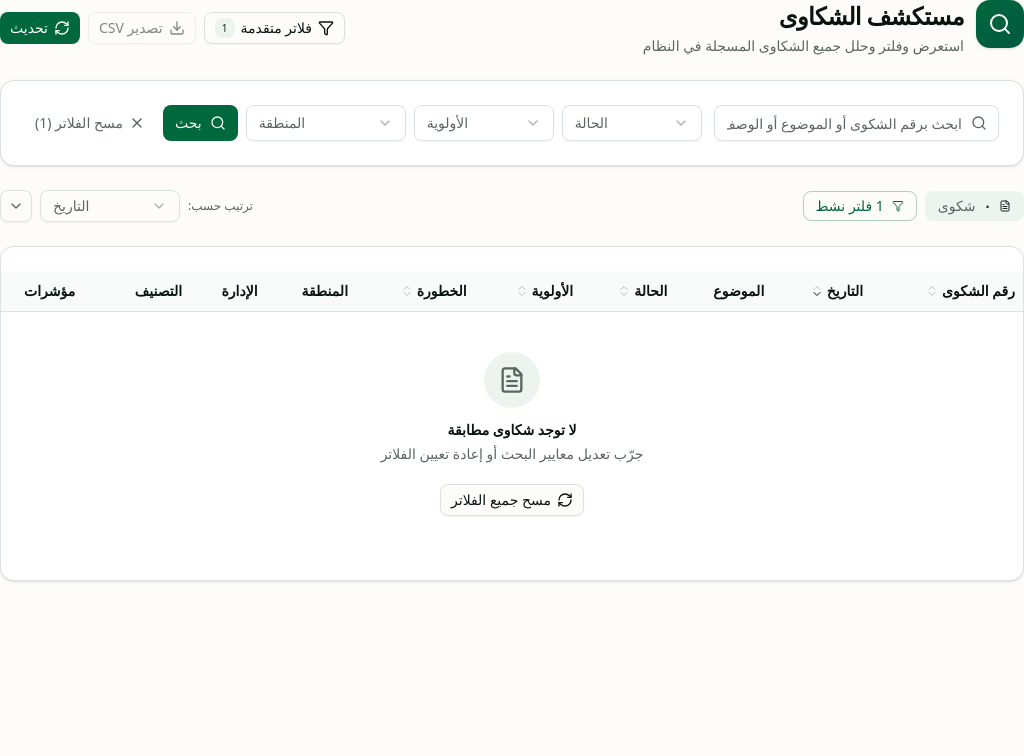
it: complaints explorer dataFreshnessBucket UI › shows facility from URL in advanced filters (drilldown-safe on reload)
Click the button "فلاتر متقدمة 1" at (274,28), box left=204, top=12, right=345, bottom=44
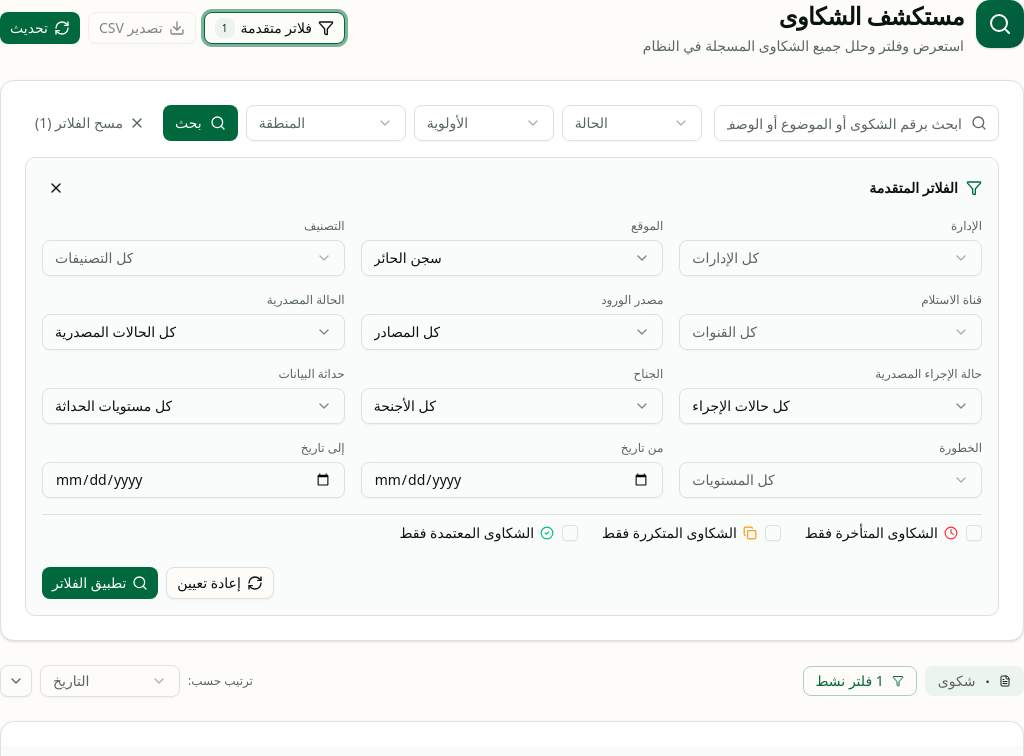
Now the dropdown labelled "سجن الحائر" is shown, box left=361, top=240, right=663, bottom=276
